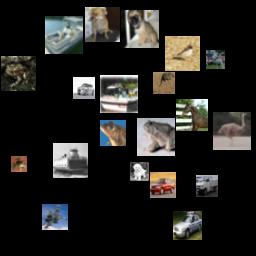airplane: (42, 204, 68, 230)
automobile: (173, 211, 202, 240), (150, 172, 176, 198), (73, 77, 95, 99)
bird: (213, 112, 251, 150), (165, 36, 200, 71), (153, 72, 175, 94)
dog: (121, 10, 159, 48), (85, 7, 120, 42), (130, 162, 149, 181)
frog: (137, 118, 175, 156), (1, 56, 36, 91), (100, 120, 126, 146), (11, 156, 27, 172)
ship: (100, 75, 138, 113), (45, 16, 83, 54), (53, 143, 88, 178)
truck: (196, 175, 218, 197)
